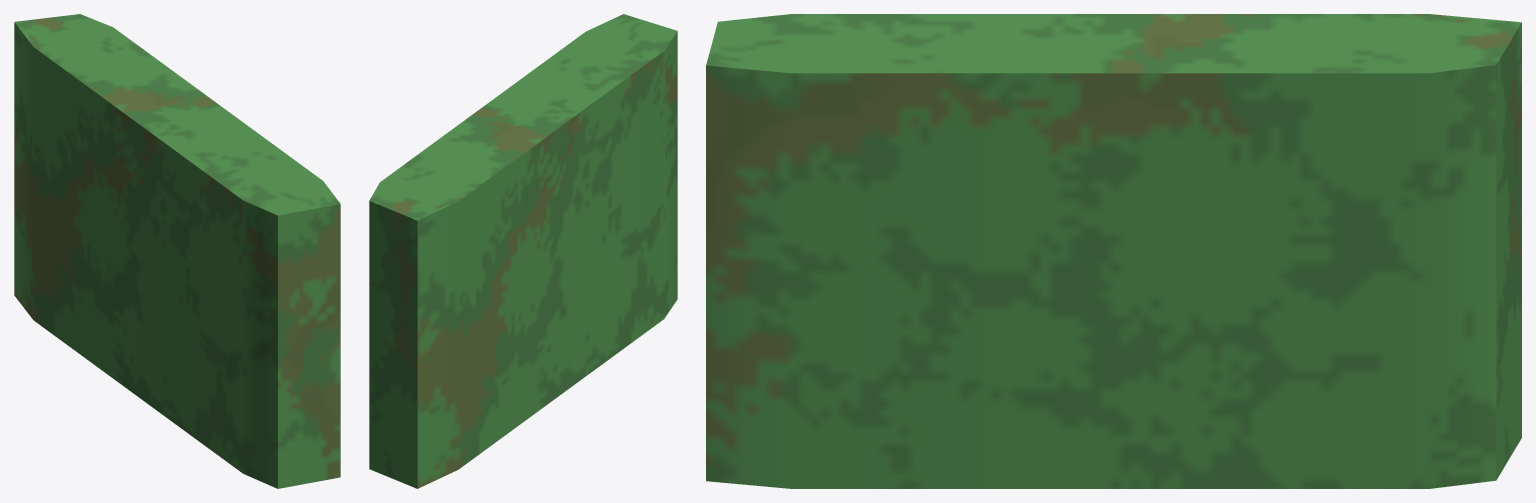
File: RockWallB.fbx
3 views of the same model, side by side, from view 1: azimuth 30°, elevation 25°; view 2: azimuth 150°, elevation 25°; view 3: azimuth 270°, elevation 25° (orthographic). The views are drawn at different scales.
Visible parts, largest first — view 1: RockWallB; view 2: RockWallB; view 3: RockWallB.
Part boxes in pixels (bbox=[...]): RockWallB: bbox=[14, 14, 340, 488]; RockWallB: bbox=[369, 14, 677, 488]; RockWallB: bbox=[706, 14, 1521, 488].
Bounding box in the file's own units: 458 × 1495 × 2660.
